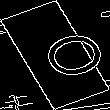O_SW: (14, 25, 96, 85)
